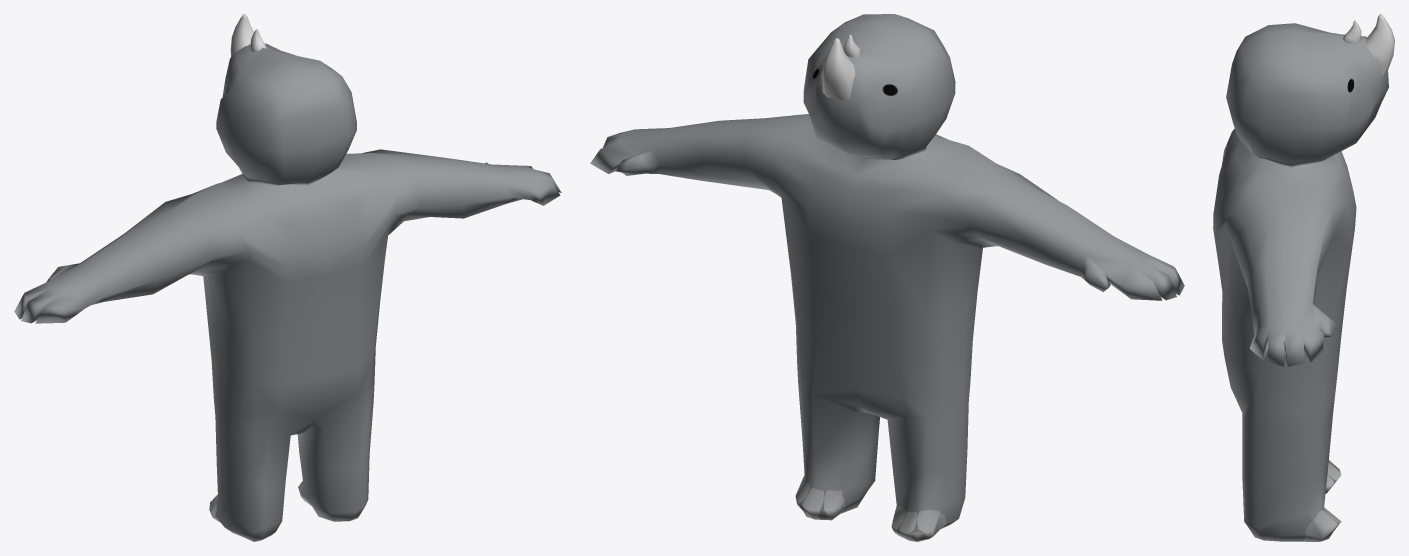
The model's file is Genepool_Rhino.fbx.
3 renders of one model, left to right at view 1: azimuth 30°, elevation 25°; view 2: azimuth 150°, elevation 25°; view 3: azimuth 270°, elevation 25°, orthographic. The views are drawn at different scales.
Visible parts, largest first — view 1: polySurface8; view 2: polySurface8; view 3: polySurface8.
Part boxes in pixels (<box>): polySurface8: <box>14,14,561,541</box>; polySurface8: <box>590,14,1184,541</box>; polySurface8: <box>1213,14,1394,541</box>.
Size of the model in its own units: 48.22 by 40.86 by 13.49.
